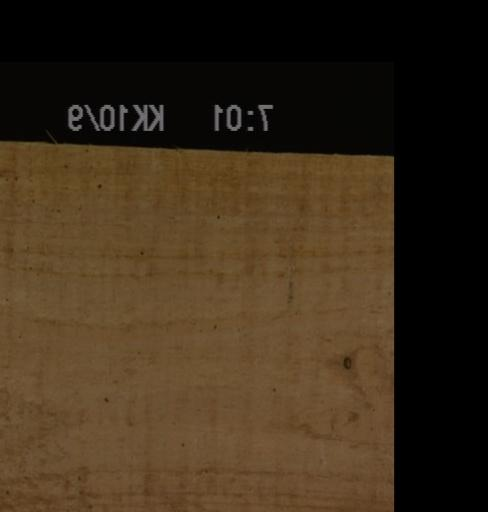dry_knot: (342, 353, 352, 368)
